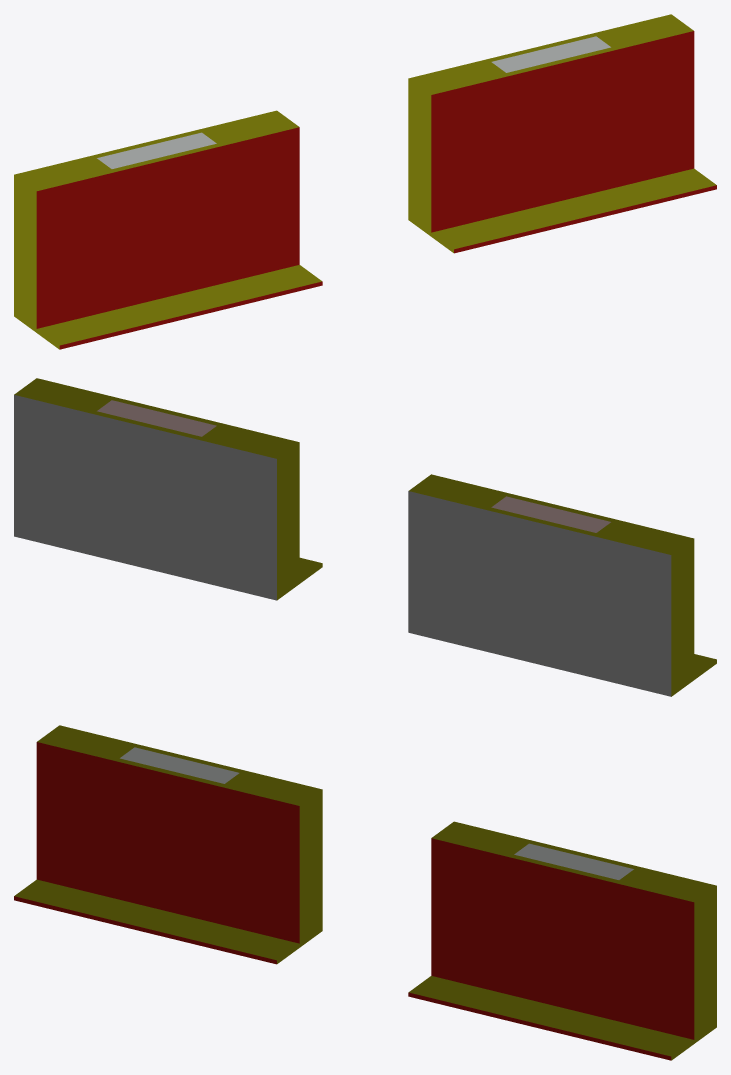
Rendered from idf.obj.
The picture shows the model from 3 angles, top to bottom: view 1: azimuth 30°, elevation 25°; view 2: azimuth 150°, elevation 25°; view 3: azimuth 330°, elevation 25°; orthographic projection.
Bounding box in the file's own units: 50 × 10.3 × 6.
